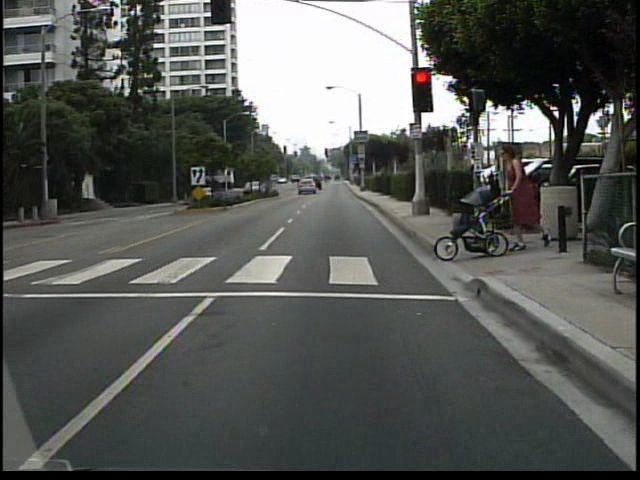person: (497, 145, 552, 255)
